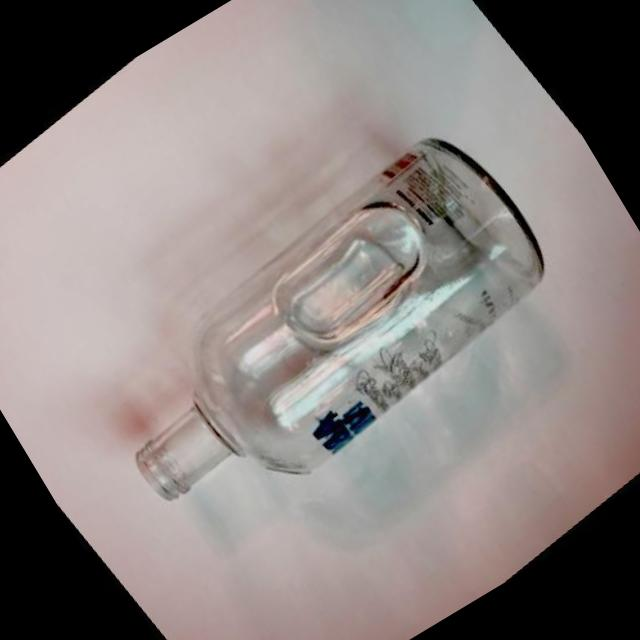BotolKaca: (66, 114, 584, 552)
